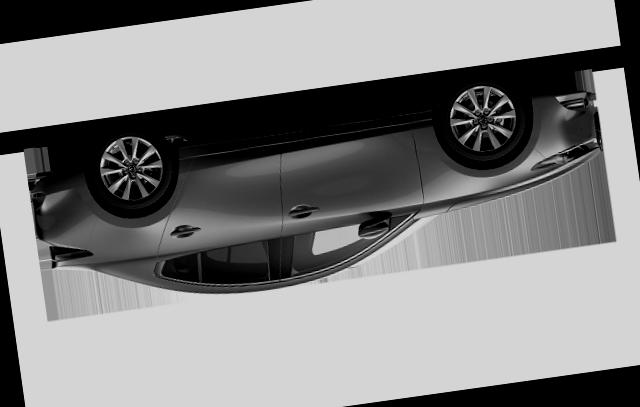sedan: (7, 23, 632, 333)
